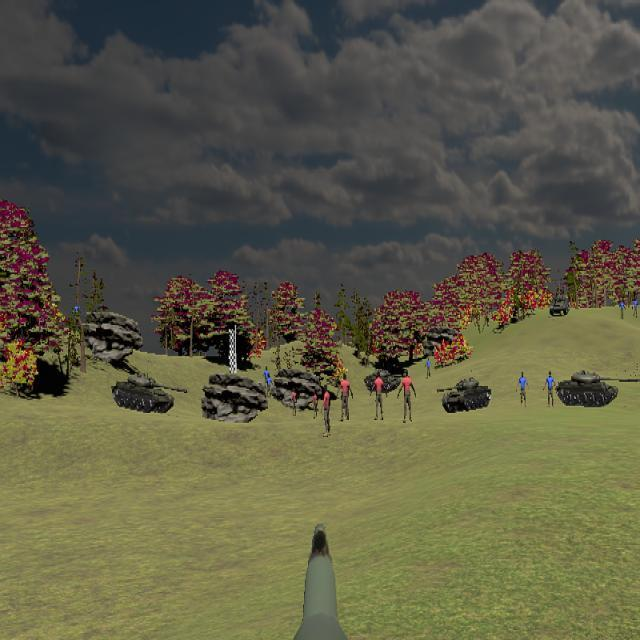Human: (397, 367, 416, 423), (369, 370, 387, 421), (337, 371, 354, 423), (320, 384, 332, 438), (543, 370, 556, 408)
Tank: (555, 369, 640, 408), (111, 374, 188, 414), (437, 376, 492, 414), (366, 368, 407, 392)
